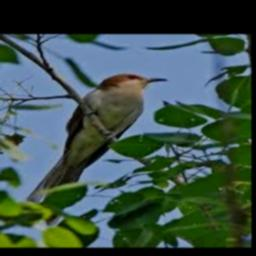Cuckoo: (24, 73, 168, 224)
